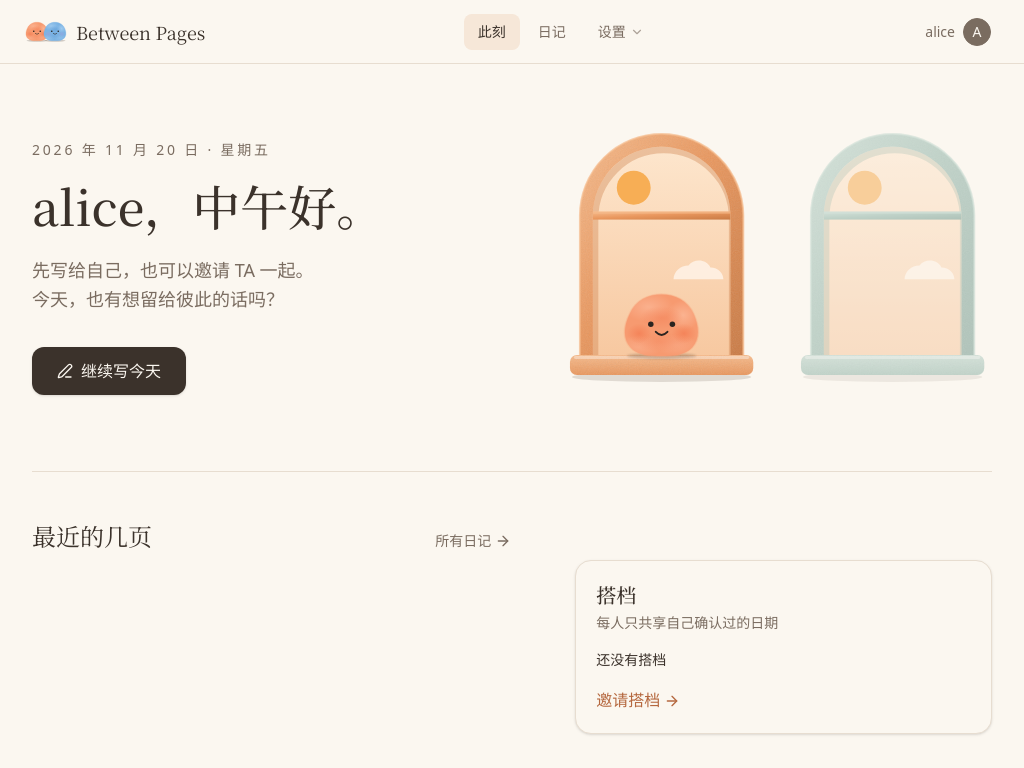
Test case: SiteHeader › stays and says so when signing out fails
Press Enter in the button with aria-label "账号：alice", box left=916, top=14, right=1000, bottom=50
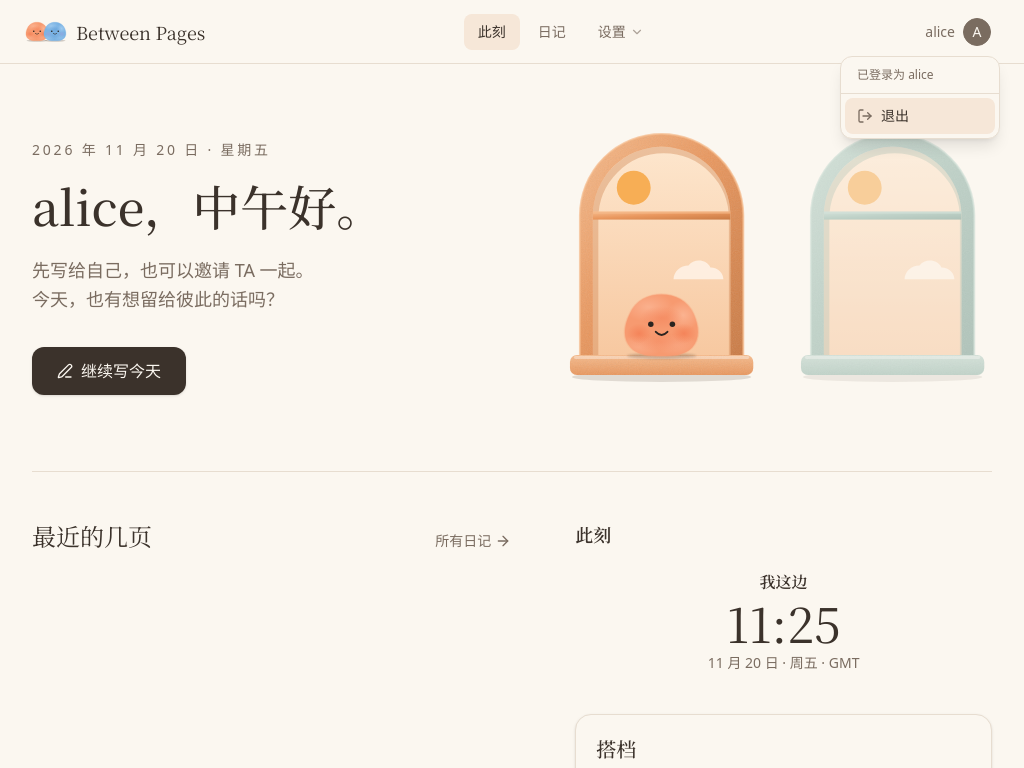
Click the menu item "退出". click: x=920, y=116
box: left=845, top=98, right=995, bottom=134
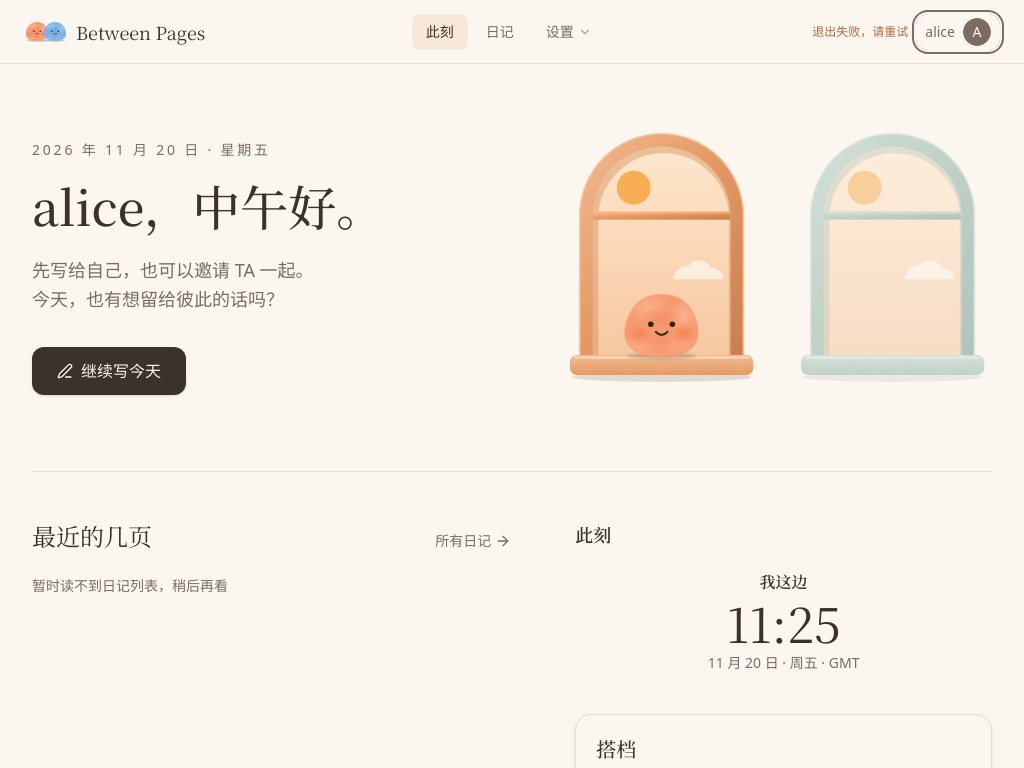
expect the message "退出失败，请重试" is shown: met, box left=812, top=24, right=908, bottom=40
